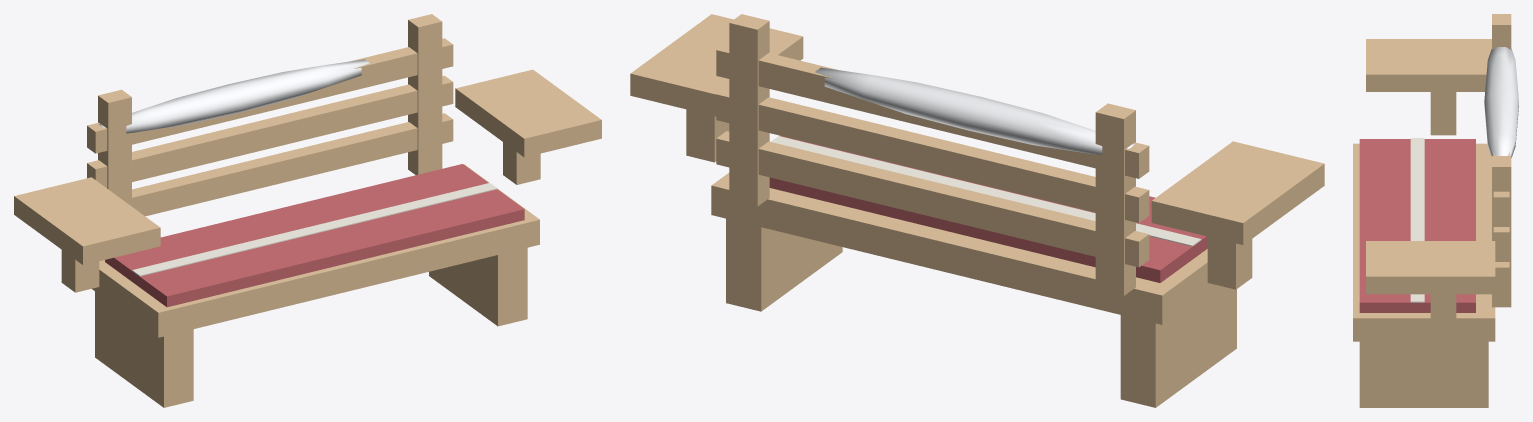
Rendered from dock-bench.glb.
3 views of the same model, side by side, from view 1: azimuth 30°, elevation 25°; view 2: azimuth 150°, elevation 25°; view 3: azimuth 270°, elevation 25° (orthographic). The views are drawn at different scales.
Visible parts, largest first — view 1: Bench, BenchCushion, BenchSnow, BenchCushionStripe; view 2: Bench, BenchSnow, BenchCushion, BenchCushionStripe; view 3: Bench, BenchCushion, BenchSnow, BenchCushionStripe.
Part boxes in pixels (left/top/right/bottom): Bench: left=14, top=14, right=601, bottom=407; BenchCushion: left=105, top=164, right=524, bottom=307; BenchSnow: left=99, top=59, right=369, bottom=133; BenchCushionStripe: left=132, top=183, right=497, bottom=276; Bench: left=630, top=14, right=1324, bottom=407; BenchSnow: left=815, top=67, right=1134, bottom=155; BenchCushion: left=769, top=136, right=1207, bottom=282; BenchCushionStripe: left=771, top=136, right=1201, bottom=246; Bench: left=1353, top=14, right=1511, bottom=407; BenchCushion: left=1359, top=139, right=1475, bottom=312; BenchSnow: left=1484, top=47, right=1518, bottom=157; BenchCushionStripe: left=1410, top=138, right=1424, bottom=302.
Bounding box in the file's own units: 0.087 × 0.04 × 0.0257.
